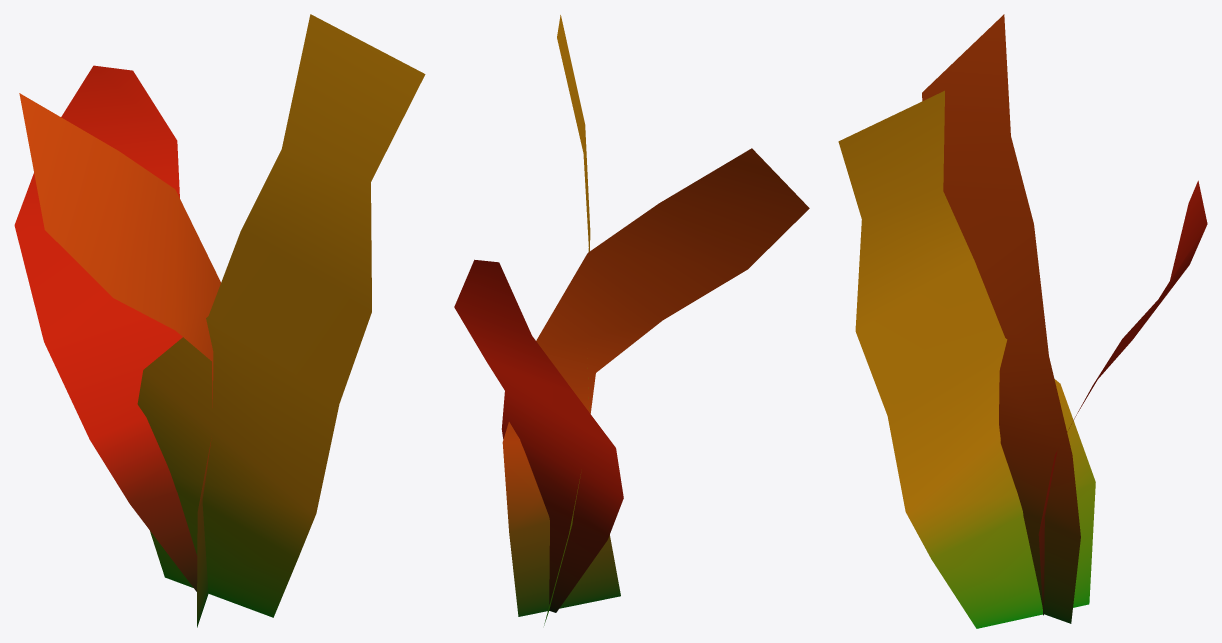
File: Var1_LOD2.fbx
3 views of the same model, side by side, from view 1: azimuth 30°, elevation 25°; view 2: azimuth 150°, elevation 25°; view 3: azimuth 270°, elevation 25° (orthographic). The views are drawn at different scales.
Parts seen in each view (by area): view 1: _e99c_Var1_LOD2; view 2: _e99c_Var1_LOD2; view 3: _e99c_Var1_LOD2.
Boxes of the visible parts, x1=… form: _e99c_Var1_LOD2: x1=14, y1=14, x2=425, y2=627; _e99c_Var1_LOD2: x1=454, y1=15, x2=809, y2=625; _e99c_Var1_LOD2: x1=838, y1=14, x2=1207, y2=628.
Bounding box in the file's own units: 27.95 × 48.95 × 29.95.
